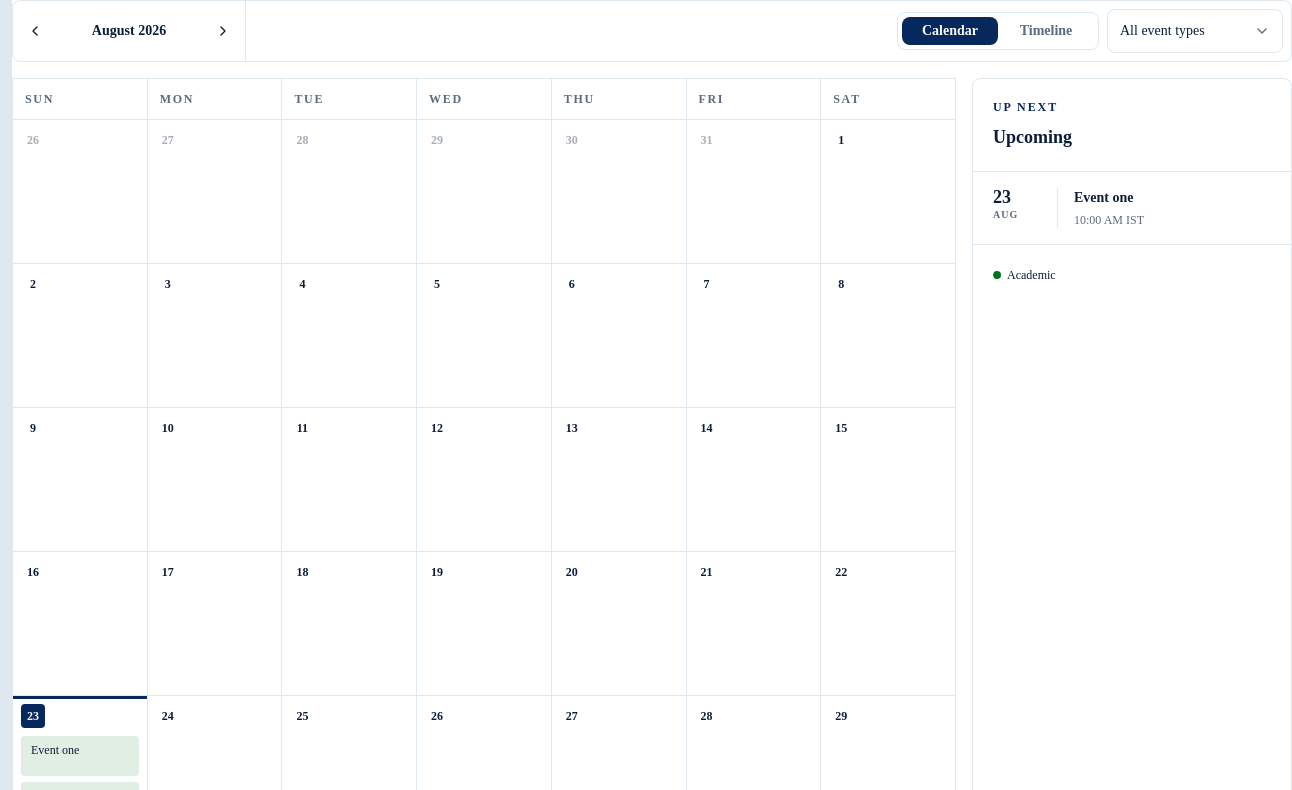
it: Calendar block › renders the month-loading failure through a recoverable Alert
The width and height of the screenshot is (1292, 790).
Click the button named "Show next month, September 2026".
click(223, 31)  # box [201, 9, 245, 53]
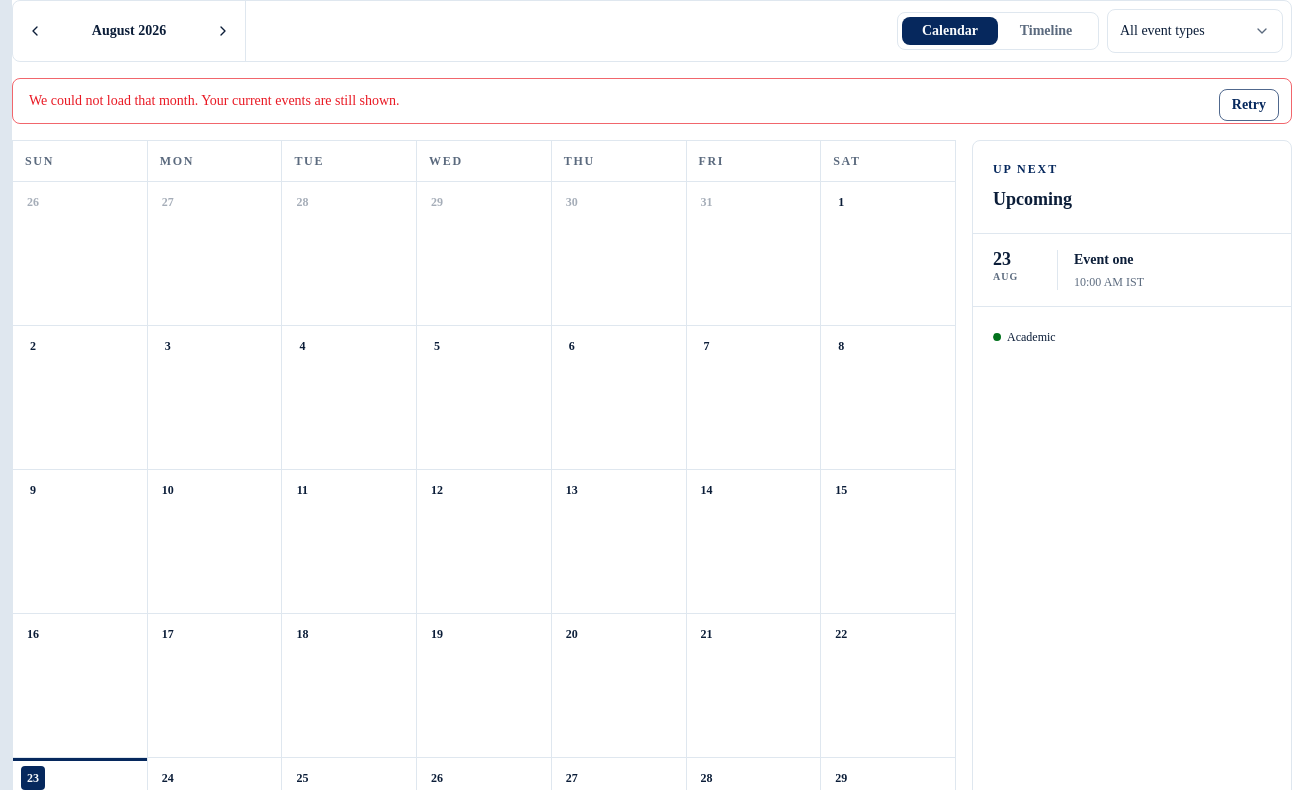
Expected: the message shows "We could not load that month. Your current events are still shown.", [29, 93, 400, 108]
Expected: the button "Retry" is shown, [1219, 89, 1279, 121]
